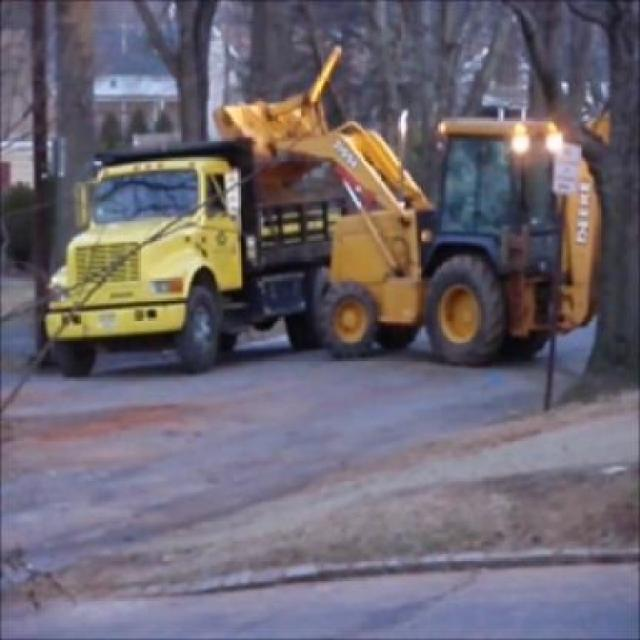Dump Truck: (47, 135, 344, 371)
